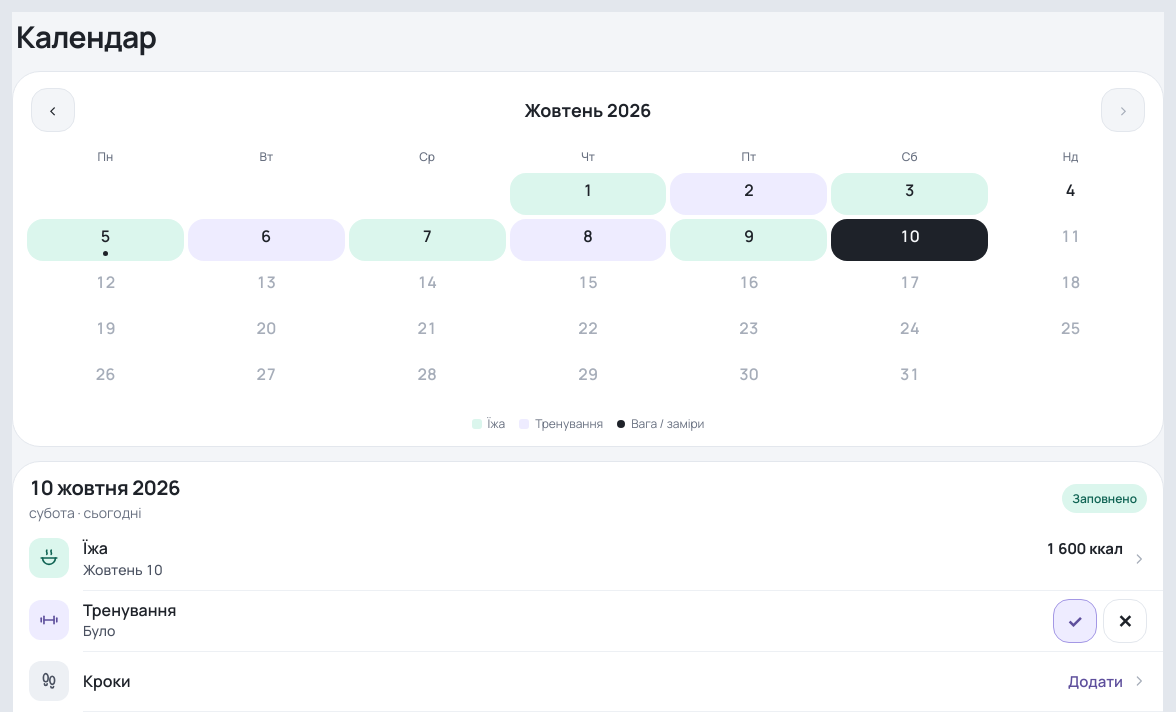
CalendarScreen › «Сьогодні» comes back to today after selecting another day
The width and height of the screenshot is (1176, 712).
What coordinates should you click on to do the following:
click the button named "5 жовтня"
I would click on:
 (105, 240)
Its box is [27,219,184,261].
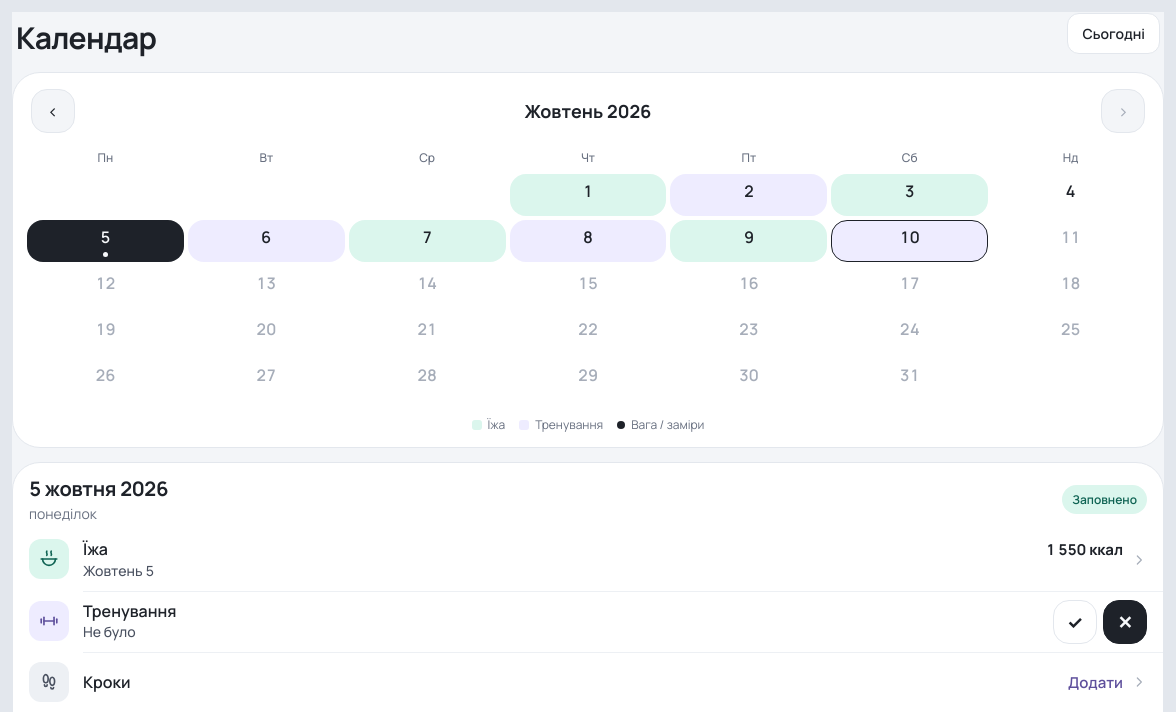
What coordinates should you click on to do the following:
click the button named "Попередній місяць"
I would click on:
 (53, 111)
Its box is [31,89,75,133].
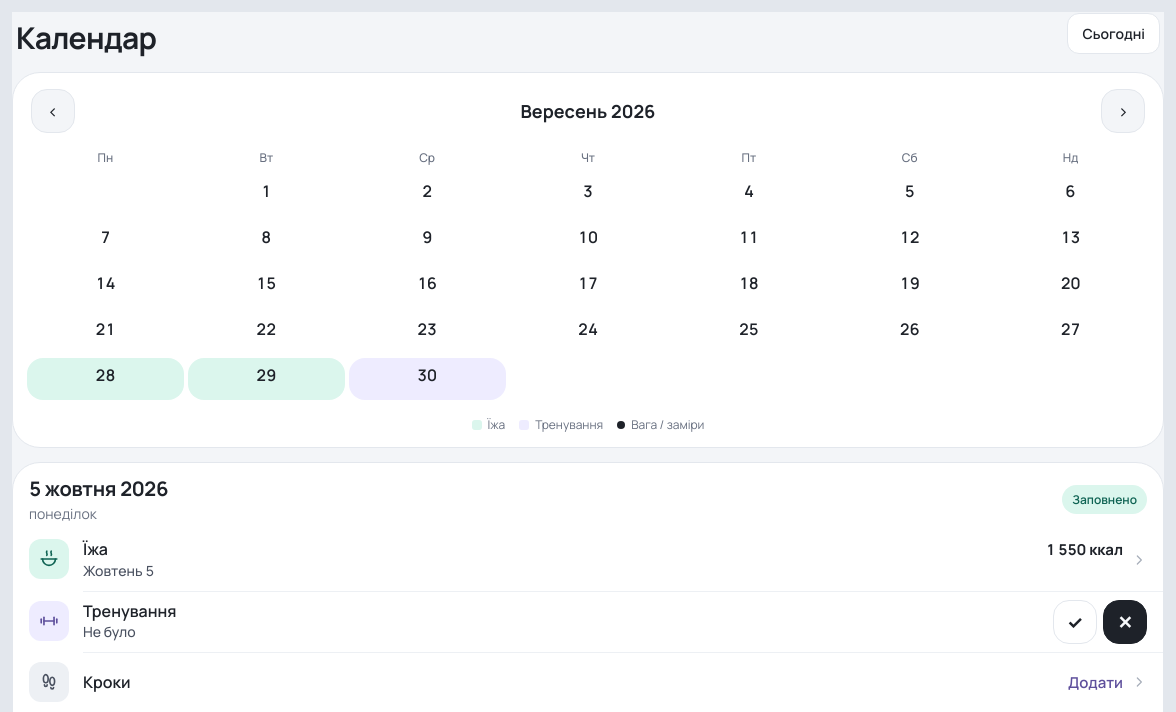
Expected: the heading "Вересень 2026" is shown, [520,99,656,123]
What coordinates should you click on to do the following:
click the button "Сьогодні"
I would click on:
 (1114, 34)
Its box is [1067,13,1160,54].
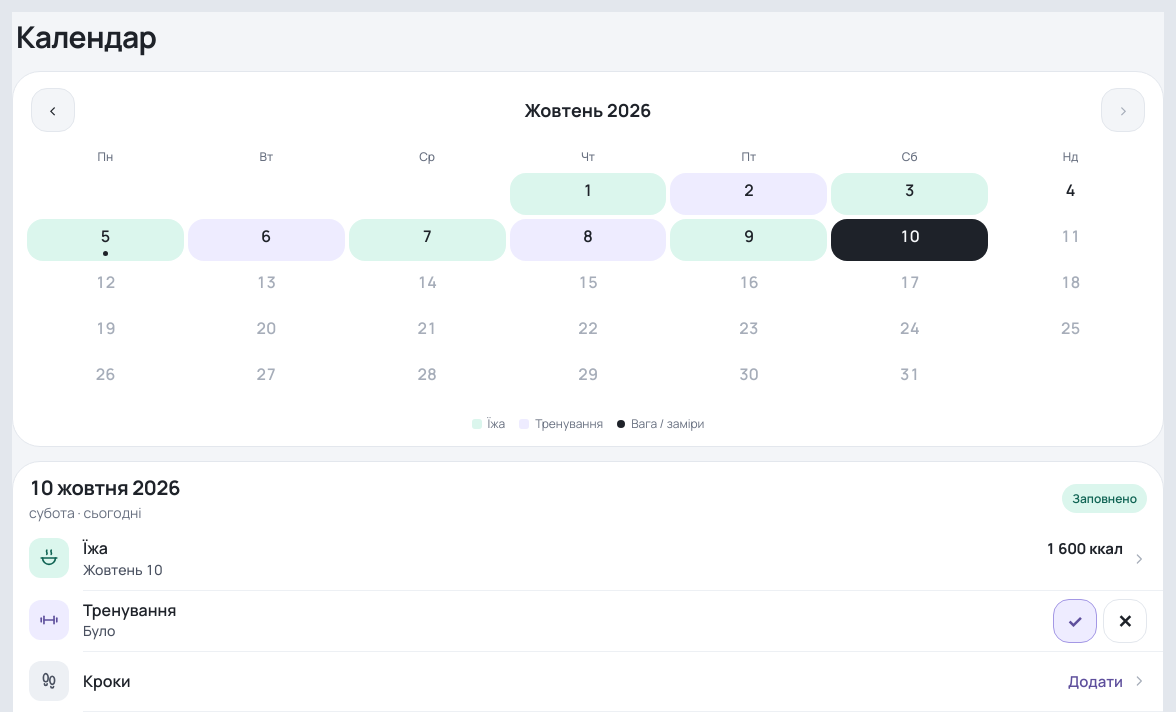
Expected: the heading "Жовтень 2026" is shown, [524,98,652,122]
Expected: the heading "10 жовтня 2026" is shown, [29,474,180,501]
